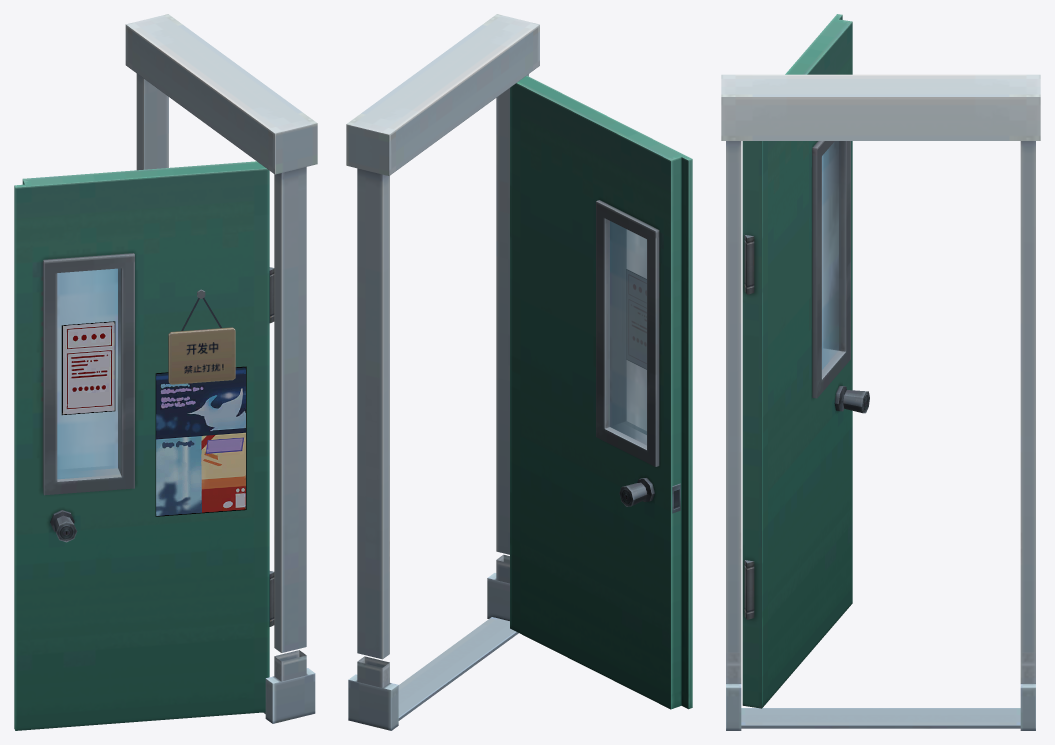
File: my_gamedevdept_01_door_01.glb
The picture shows the model from 3 angles, left to right: view 1: azimuth 30°, elevation 25°; view 2: azimuth 150°, elevation 25°; view 3: azimuth 270°, elevation 25°; orthographic projection. The views are drawn at different scales.
Visible parts, largest first — view 1: my_gamedevdept_01_door_01; view 2: my_gamedevdept_01_door_01; view 3: my_gamedevdept_01_door_01.
Part boxes in pixels (box(x1,y1,x2,y2)): my_gamedevdept_01_door_01: box(14, 14, 317, 730); my_gamedevdept_01_door_01: box(346, 14, 692, 730); my_gamedevdept_01_door_01: box(721, 14, 1040, 730).
Size of the model in its own units: 0.00562 by 0.0128 by 0.00586.
Materials: 3 (3 with a texture image).
